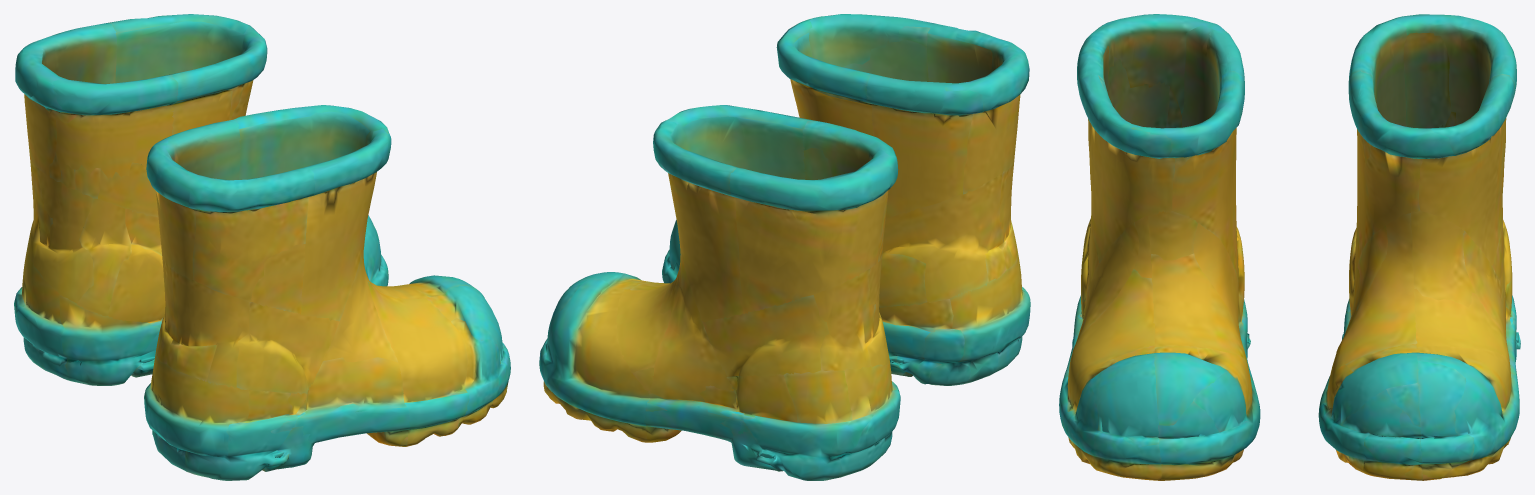
The model's file is acc_shoes_boots_01.glb.
The picture shows the model from 3 angles, left to right: view 1: azimuth 30°, elevation 25°; view 2: azimuth 150°, elevation 25°; view 3: azimuth 270°, elevation 25°; orthographic projection. The views are drawn at different scales.
Parts seen in each view (by area): view 1: acc_shoes_boots_01; view 2: acc_shoes_boots_01; view 3: acc_shoes_boots_01.
Part boxes in pixels (x1,y1,x2,y2): acc_shoes_boots_01: (14, 14, 510, 480); acc_shoes_boots_01: (539, 14, 1030, 480); acc_shoes_boots_01: (1059, 14, 1520, 480).
Size of the model in its own units: 0.2374 by 0.1999 by 0.2667.
1 material, 1 textured.
